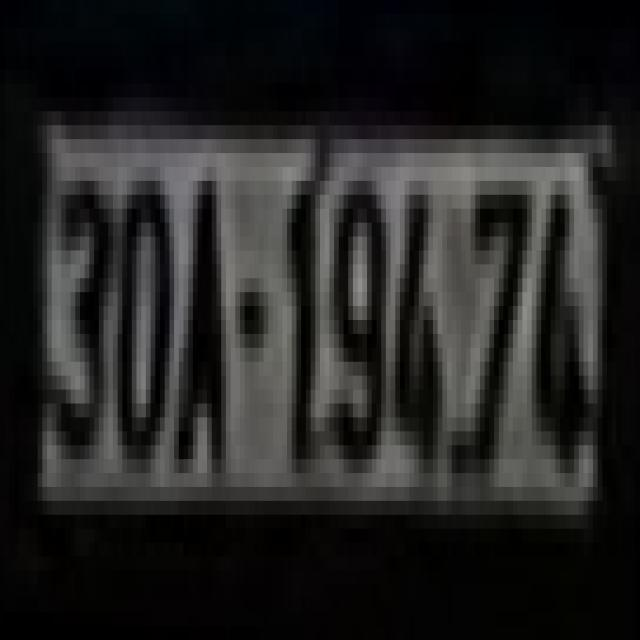0: (112, 167, 170, 473)
1: (276, 160, 322, 480)
3: (42, 167, 113, 459)
4: (532, 167, 598, 487), (390, 181, 448, 473)
7: (452, 181, 532, 473)
9: (329, 153, 386, 473)
A: (174, 167, 231, 487)
